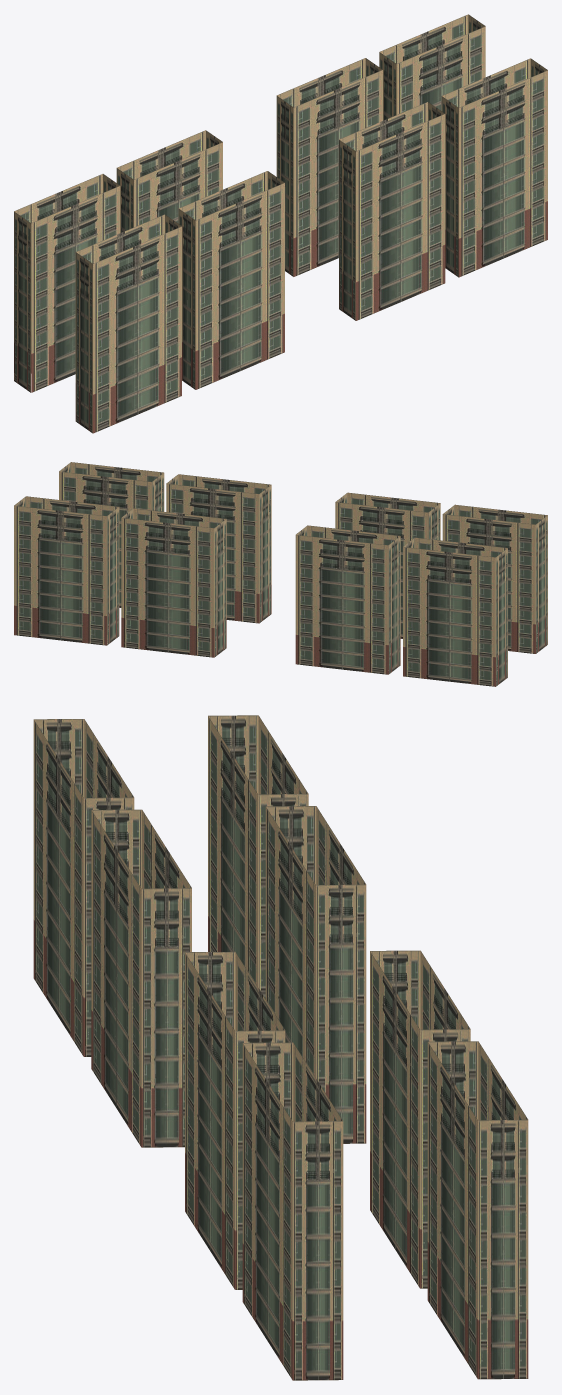
Rendered from build04.FBX.
3 renders of one model, top to bottom at view 1: azimuth 30°, elevation 25°; view 2: azimuth 150°, elevation 25°; view 3: azimuth 270°, elevation 25°, orthographic. The views are drawn at different scales.
Visible parts, largest first — view 1: build04; view 2: build04; view 3: build04.
Boxes of the visible parts, x1=… form: build04: x1=14, y1=14, x2=547, y2=433; build04: x1=14, y1=462, x2=547, y2=686; build04: x1=33, y1=715, x2=528, y2=1380.
Size of the model in its own units: 3904 by 1161 by 2009.
Materials: 1 (1 with a texture image).
